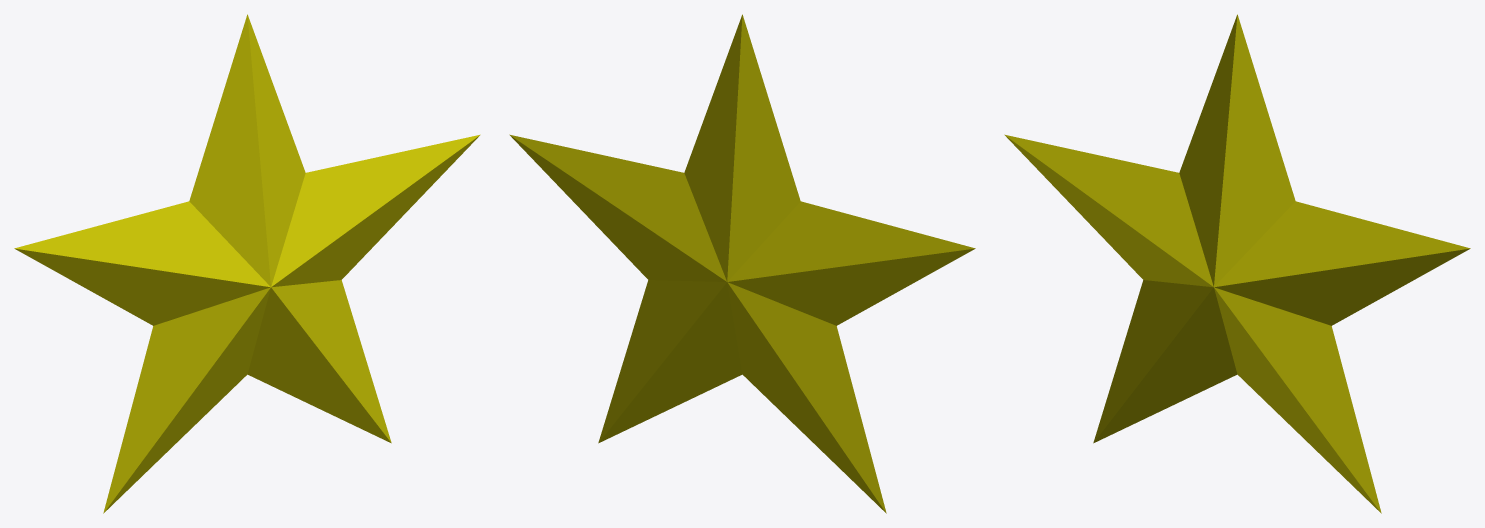
Rendered from starup.fbx.
3 renders of one model, left to right at view 1: azimuth 30°, elevation 25°; view 2: azimuth 150°, elevation 25°; view 3: azimuth 330°, elevation 25°, orthographic.
Visible parts, largest first — view 1: Cylinder; view 2: Cylinder; view 3: Cylinder.
Part boxes in pixels (x1,y1,x2,y2): Cylinder: [14, 14, 480, 513]; Cylinder: [509, 14, 975, 513]; Cylinder: [1004, 14, 1470, 513].
Size of the model in its own units: 95.11 by 90.45 by 13.7.
